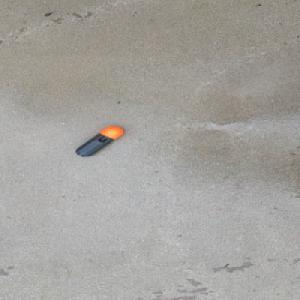PlasticPart: (74, 125, 124, 157)
